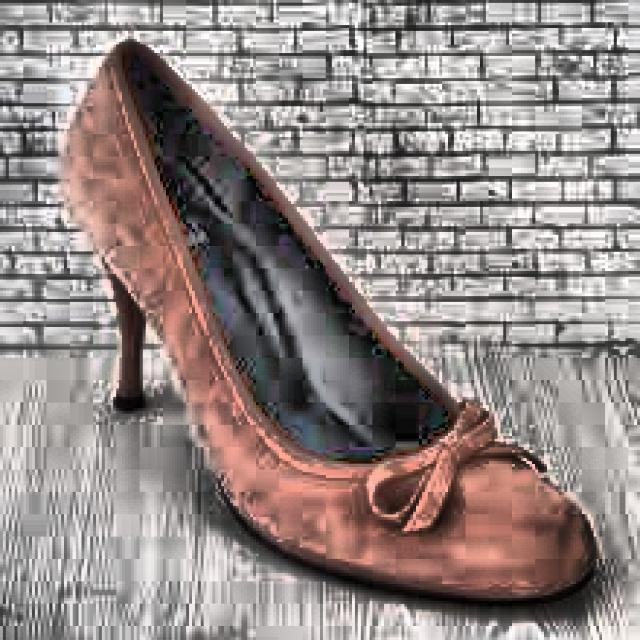shoes: (49, 34, 604, 606)
